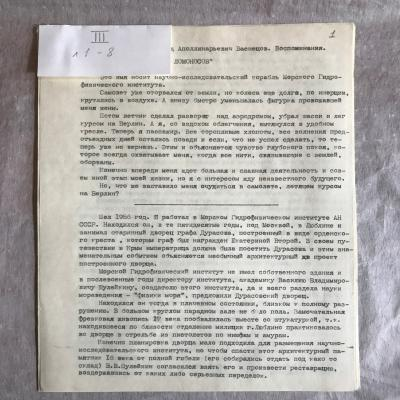document: (34, 23, 361, 395)
